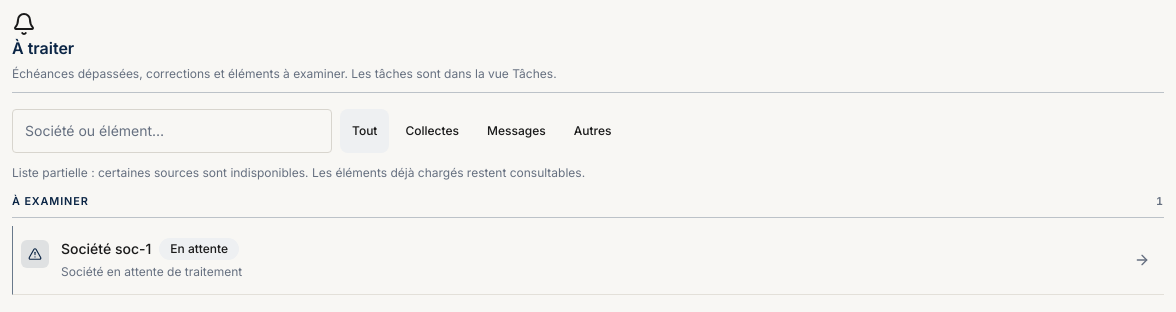
Test: Daily Workspace UI contract › attention search retains loaded results during a partial failure
Expected: the text "Société soc-1" is shown, [61,239,151,259]
Expected: the message shows "Liste partielle", [12,164,230,180]
Step 1. Type "introuvable" into the field named "Rechercher un élément à traiter" → (172, 130), box [12,108,332,152]
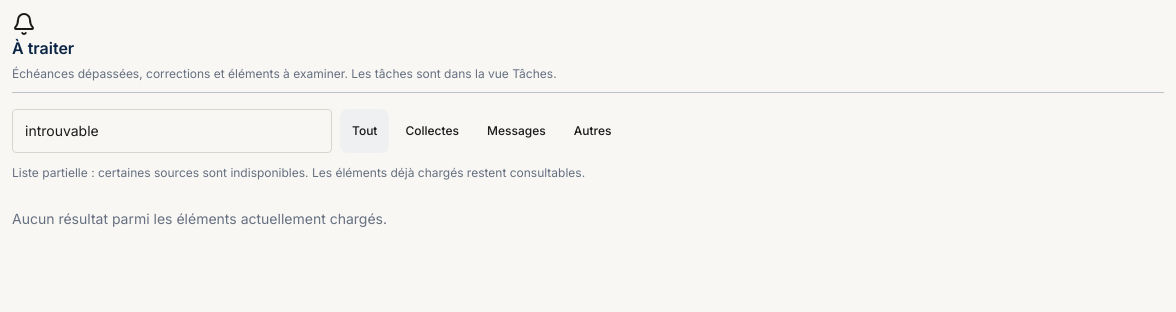
Now the text "Aucun résultat parmi les éléments actuellement chargés." is shown, box [12,210,387,226]
